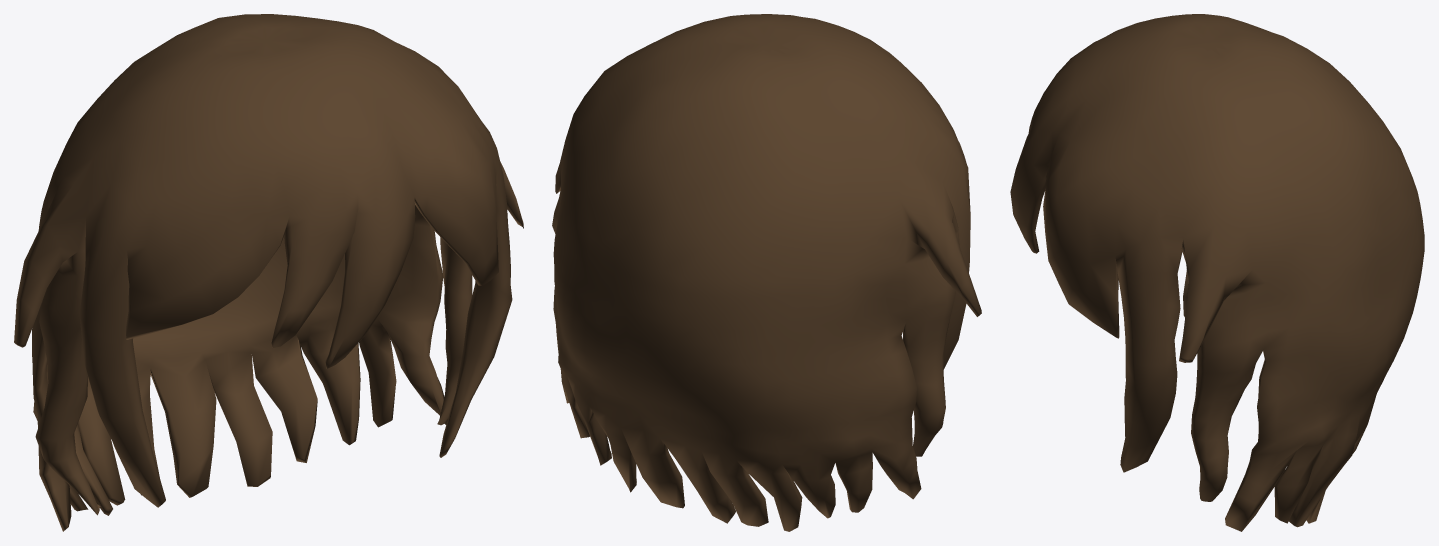
Rendered from female_hair_2.fbx.
3 views of the same model, side by side, from view 1: azimuth 30°, elevation 25°; view 2: azimuth 150°, elevation 25°; view 3: azimuth 270°, elevation 25° (orthographic). The views are drawn at different scales.
Visible parts, largest first — view 1: Hair; view 2: Hair; view 3: Hair.
Boxes of the visible parts, left/top/right/bottom form: Hair: left=14, top=14, right=523, bottom=531; Hair: left=552, top=14, right=981, bottom=531; Hair: left=1010, top=14, right=1424, bottom=531.
Bounding box in the file's own units: 65.88 × 63.82 × 53.07.
